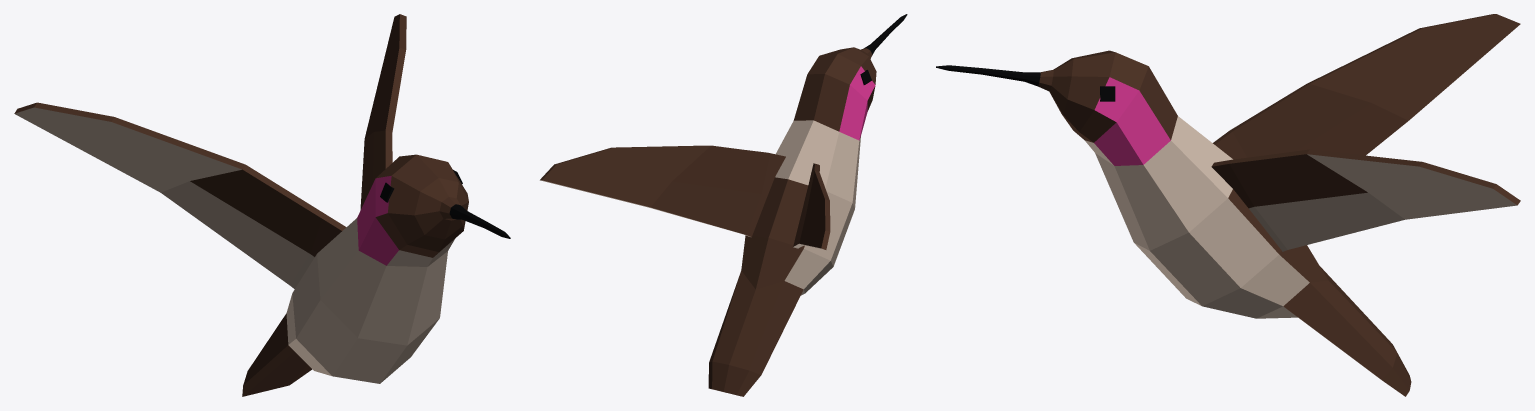
Rendered from colibri.glb.
The picture shows the model from 3 angles, left to right: view 1: azimuth 30°, elevation 25°; view 2: azimuth 150°, elevation 25°; view 3: azimuth 270°, elevation 25°; orthographic projection. The views are drawn at different scales.
Visible parts, largest first — view 1: Geo_Hummingbird; view 2: Geo_Hummingbird; view 3: Geo_Hummingbird.
Part boxes in pixels (x1,y1,x2,y2): Geo_Hummingbird: (14,14,510,396); Geo_Hummingbird: (540,14,907,396); Geo_Hummingbird: (936,14,1520,396).
Size of the model in its own units: 91.68 by 78.54 by 125.
1 material, 1 textured.
